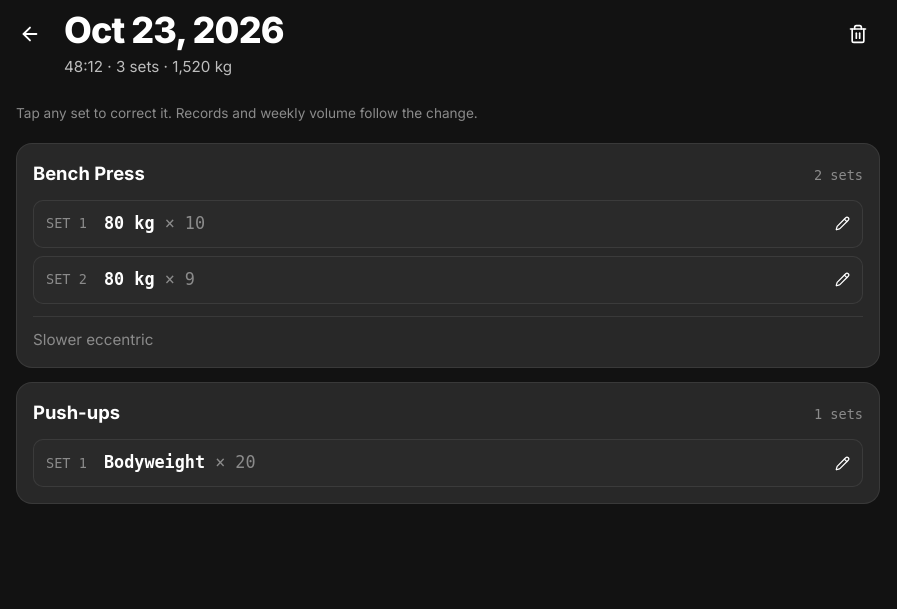
Test: MobileSessionDetail › keeps the editor open and shows the error when saving fails
Click the button with aria-label "Edit set 1 of Bench Press" at (62, 223), box top-left (33, 200), bottom-right (863, 248)
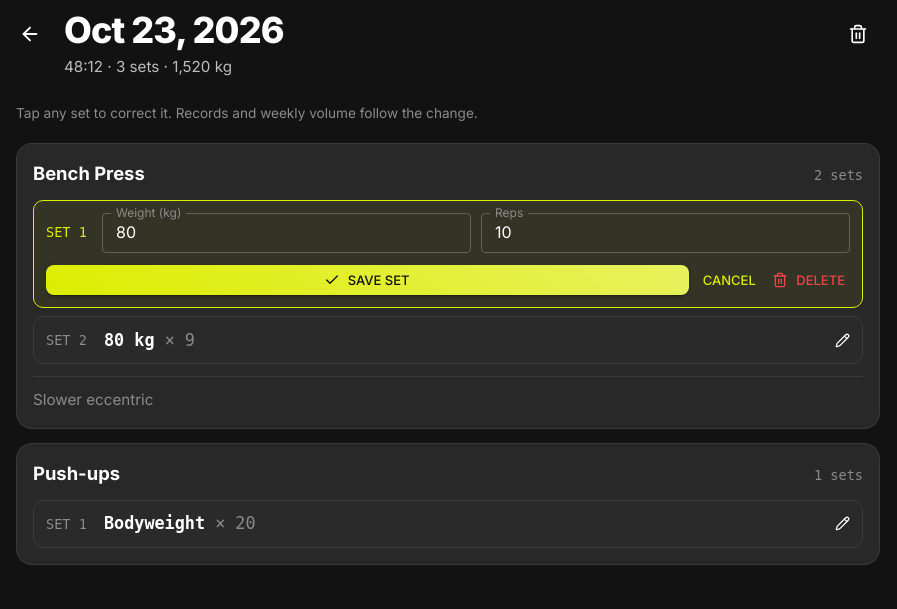
Click the button "Save set" at (368, 280), box top-left (46, 265), bottom-right (689, 295)
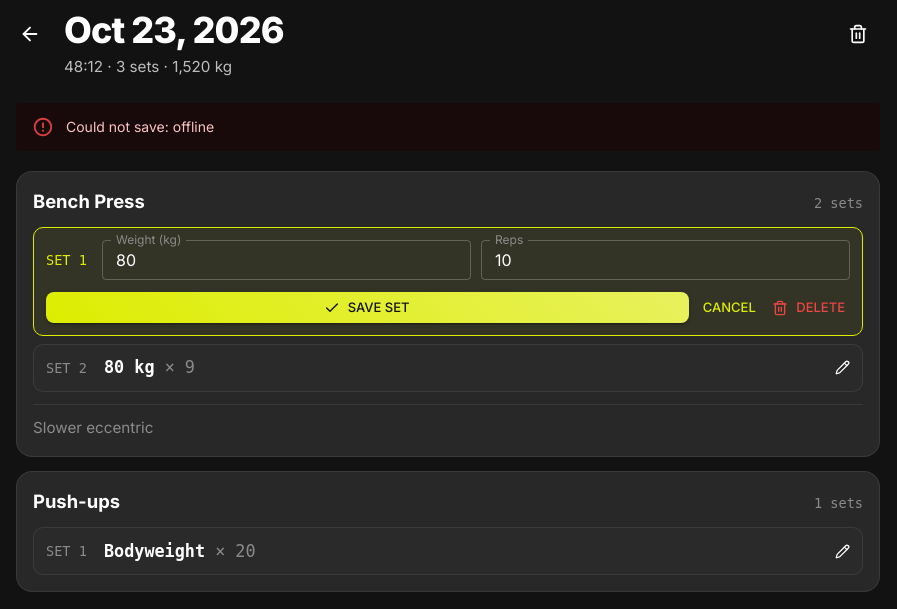
Expected: the button "Save set" is shown, top-left (46, 292), bottom-right (689, 323)
Expected: the text "Could not save: offline" is shown, top-left (66, 118), bottom-right (214, 135)
